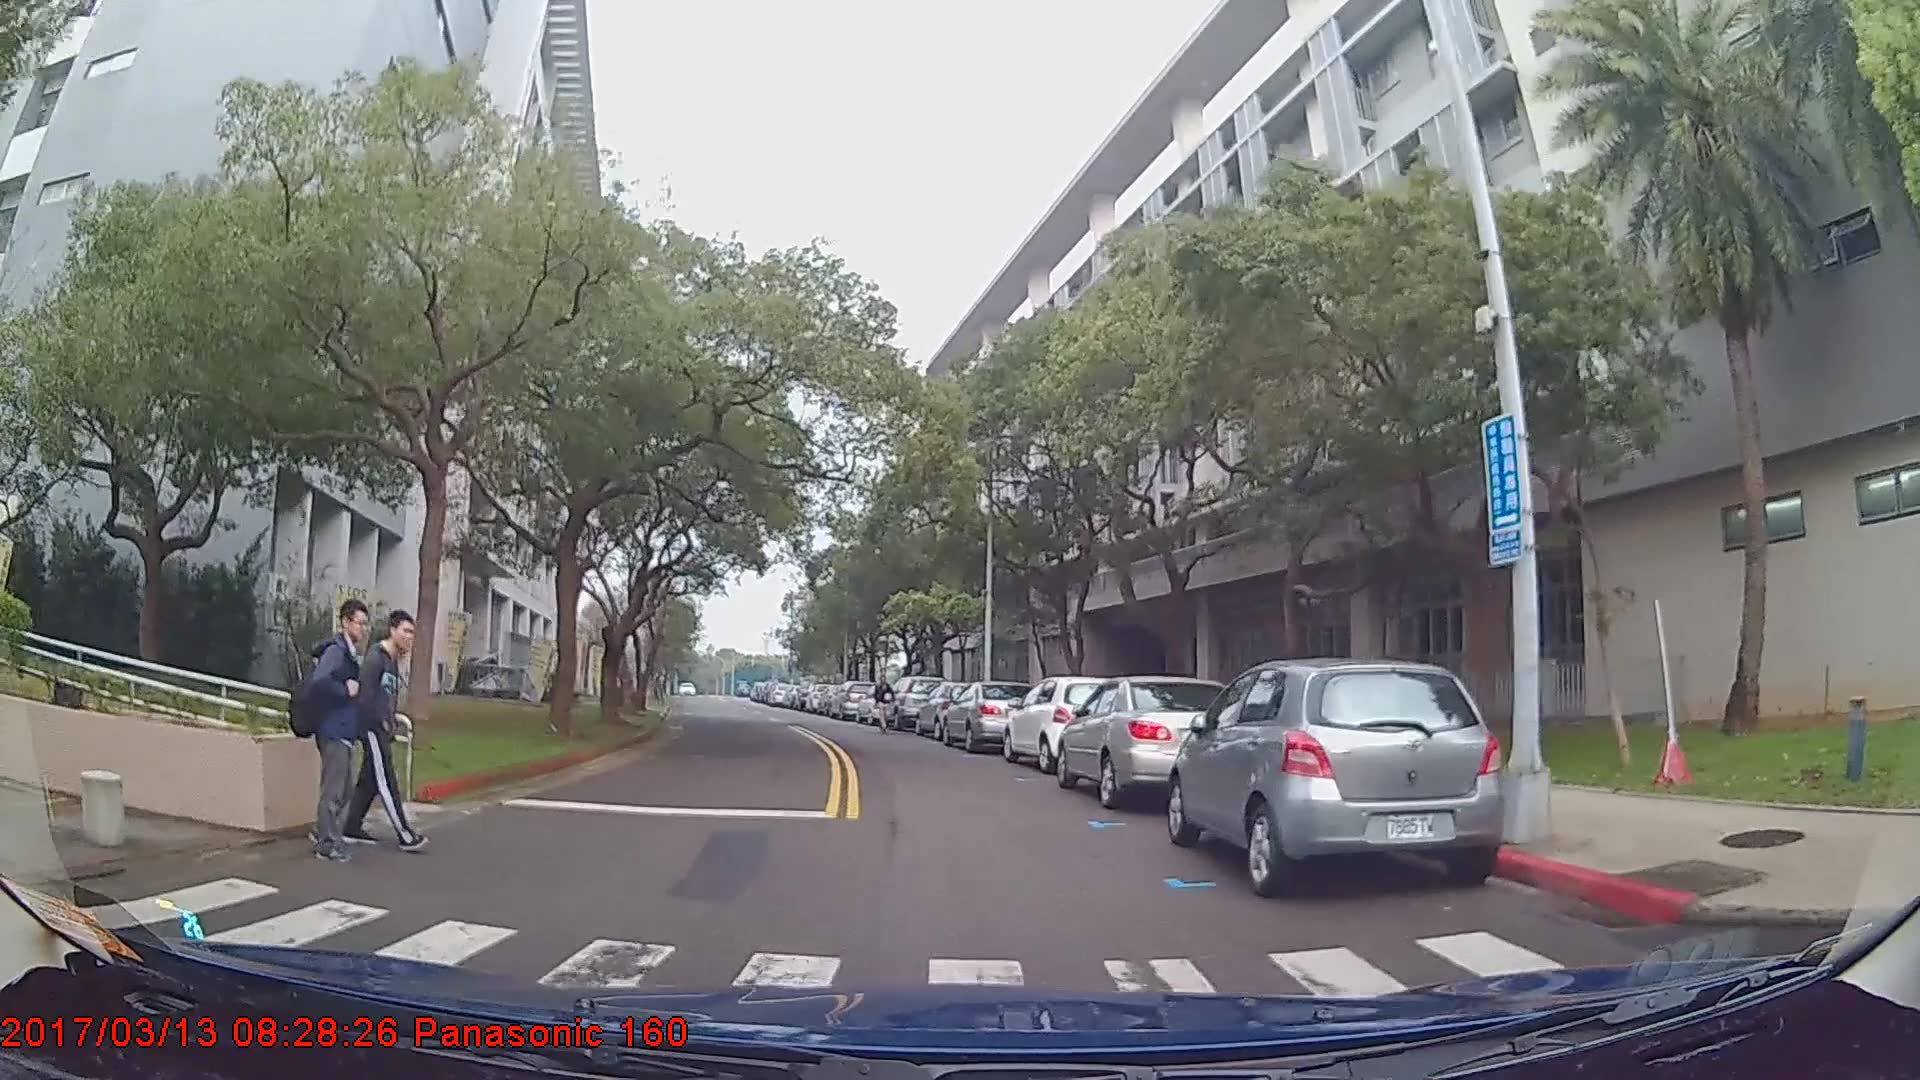pedestrian: (274, 604, 376, 871), (336, 611, 428, 861), (873, 675, 897, 736)
vehicle: (1168, 656, 1507, 902), (1055, 676, 1253, 809), (1001, 675, 1127, 774), (939, 678, 1037, 752), (915, 679, 993, 741), (879, 674, 942, 729), (830, 678, 880, 718)
